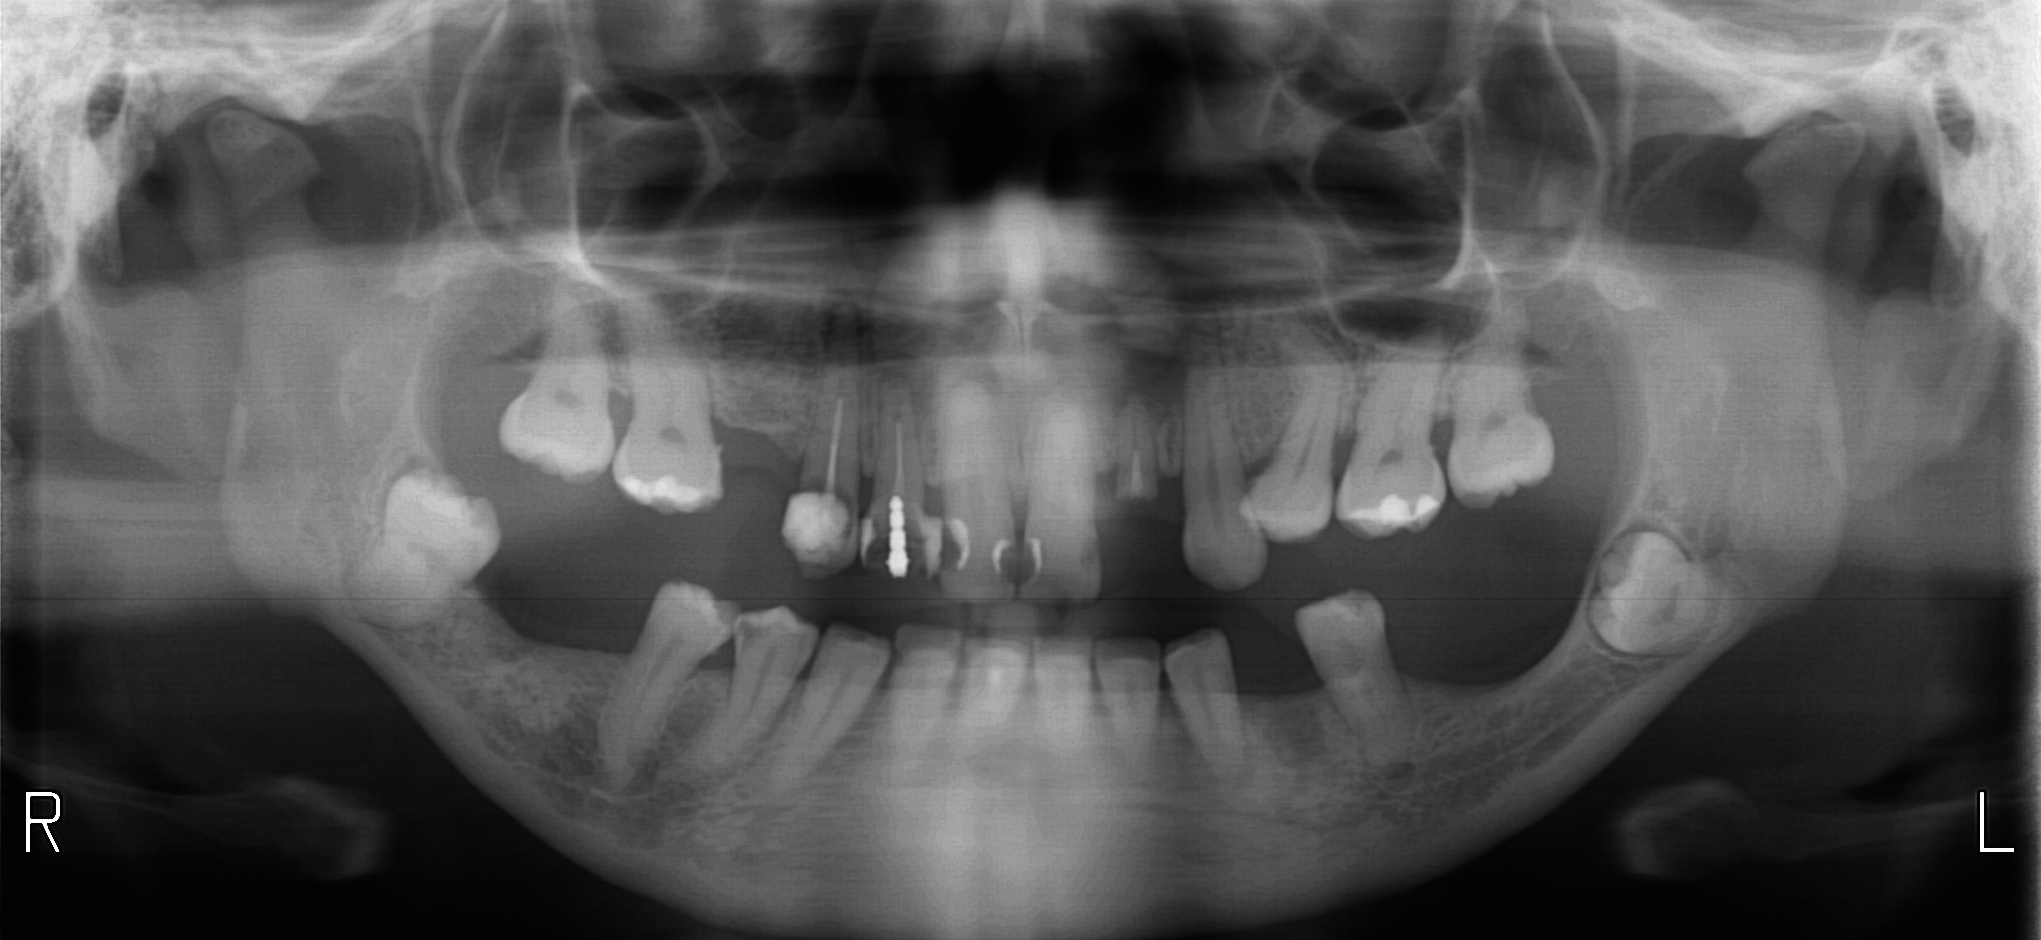cavity: (1018, 544, 1034, 586), (942, 526, 959, 562), (998, 546, 1011, 578), (1526, 391, 1533, 411)
